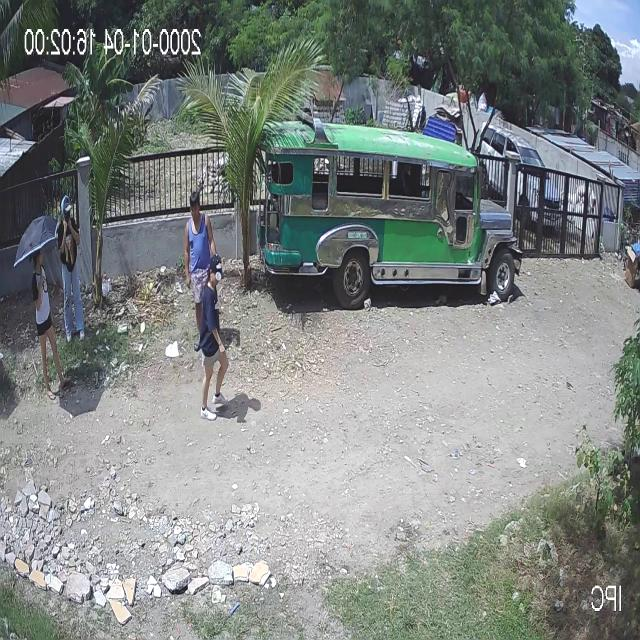standing: (28, 244, 72, 400), (184, 188, 222, 356), (54, 194, 86, 344)
walking: (198, 250, 230, 422)
